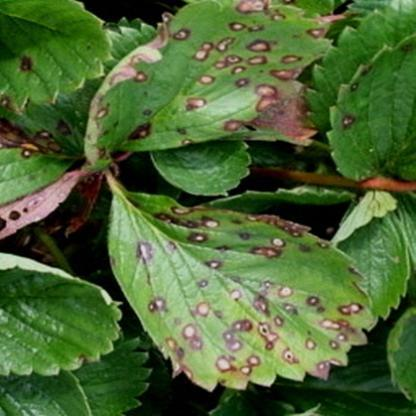Strawberry_Leaf_Spot: (104, 169, 376, 392), (82, 0, 336, 167), (0, 22, 158, 206), (0, 0, 116, 118), (326, 32, 416, 183)
